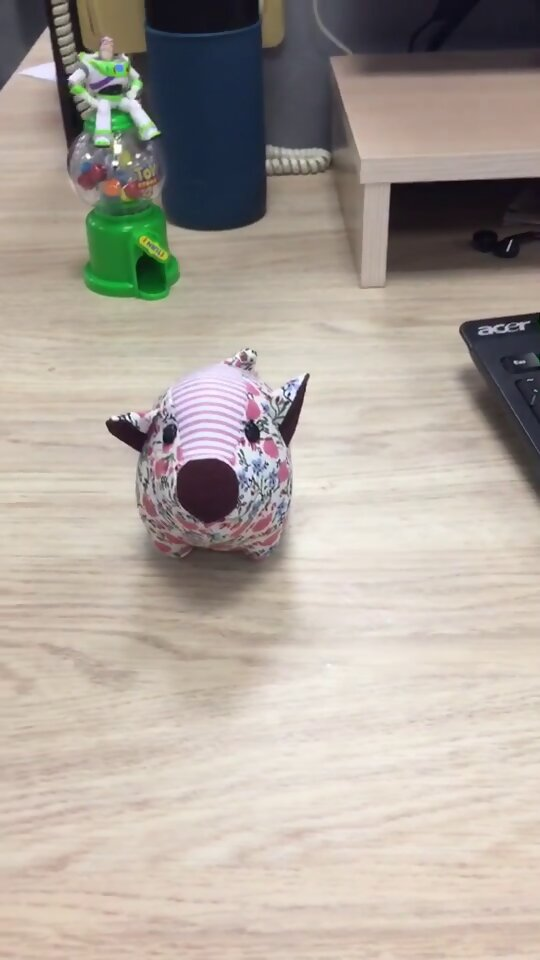pig: (101, 343, 315, 564)
